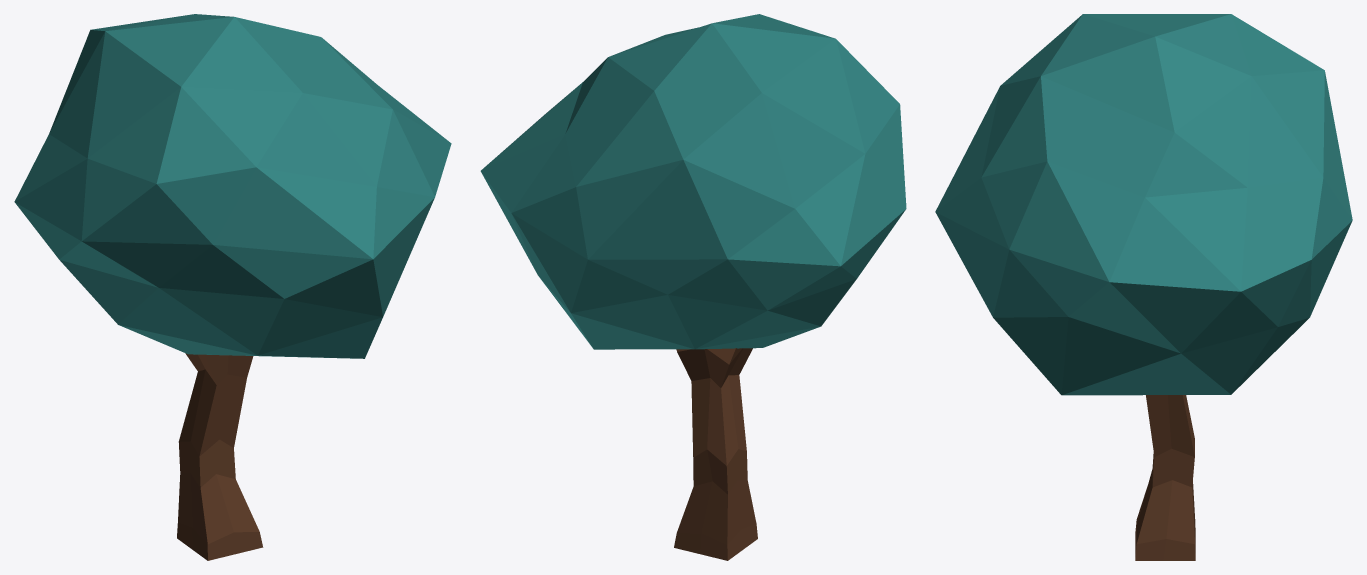
The model's file is Tree_32_Blue.fbx.
3 renders of one model, left to right at view 1: azimuth 30°, elevation 25°; view 2: azimuth 150°, elevation 25°; view 3: azimuth 270°, elevation 25°, orthographic. The views are drawn at different scales.
Parts seen in each view (by area): view 1: Tree_32_Blue_Part_1, Tree_32_Blue_Part_2; view 2: Tree_32_Blue_Part_1, Tree_32_Blue_Part_2; view 3: Tree_32_Blue_Part_1, Tree_32_Blue_Part_2.
Part boxes in pixels (x1,y1,x2,y2): Tree_32_Blue_Part_1: (14, 14, 451, 358); Tree_32_Blue_Part_2: (177, 353, 263, 560); Tree_32_Blue_Part_1: (480, 14, 906, 349); Tree_32_Blue_Part_2: (674, 348, 757, 560); Tree_32_Blue_Part_1: (935, 14, 1352, 395); Tree_32_Blue_Part_2: (1135, 395, 1195, 560).
Size of the model in its own units: 597 by 814 by 598.
